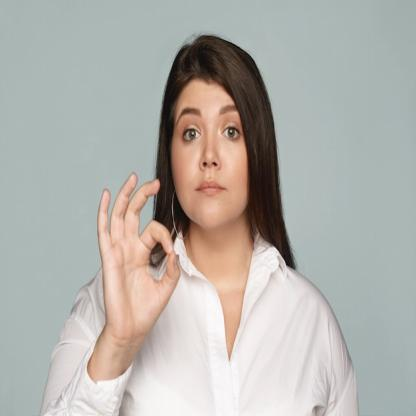ok: (95, 169, 183, 343)
